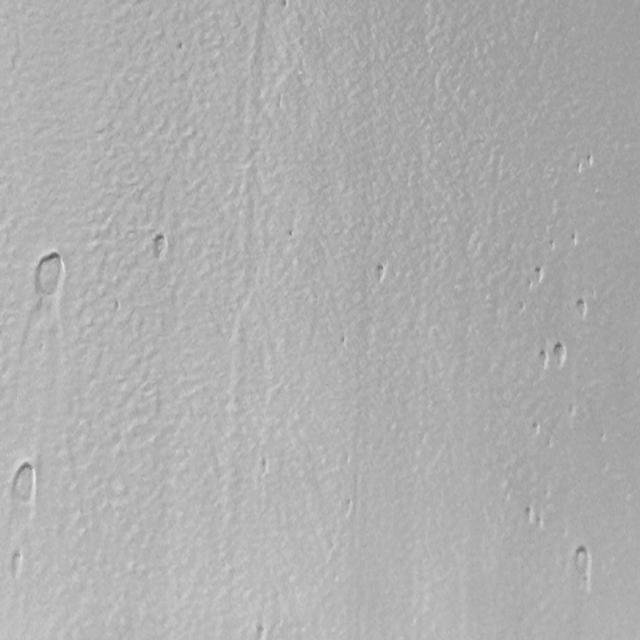pin holes: (30, 247, 68, 298), (7, 460, 42, 508), (568, 545, 596, 596), (6, 549, 26, 578), (551, 342, 571, 369), (150, 232, 169, 260), (574, 296, 592, 322), (373, 260, 391, 284), (522, 503, 538, 528), (255, 455, 272, 477), (537, 348, 552, 372), (255, 621, 271, 640), (533, 266, 547, 284), (583, 153, 596, 172), (531, 420, 544, 437), (570, 231, 582, 248), (574, 160, 586, 175), (278, 0, 292, 12), (286, 227, 298, 241), (547, 238, 558, 252)
